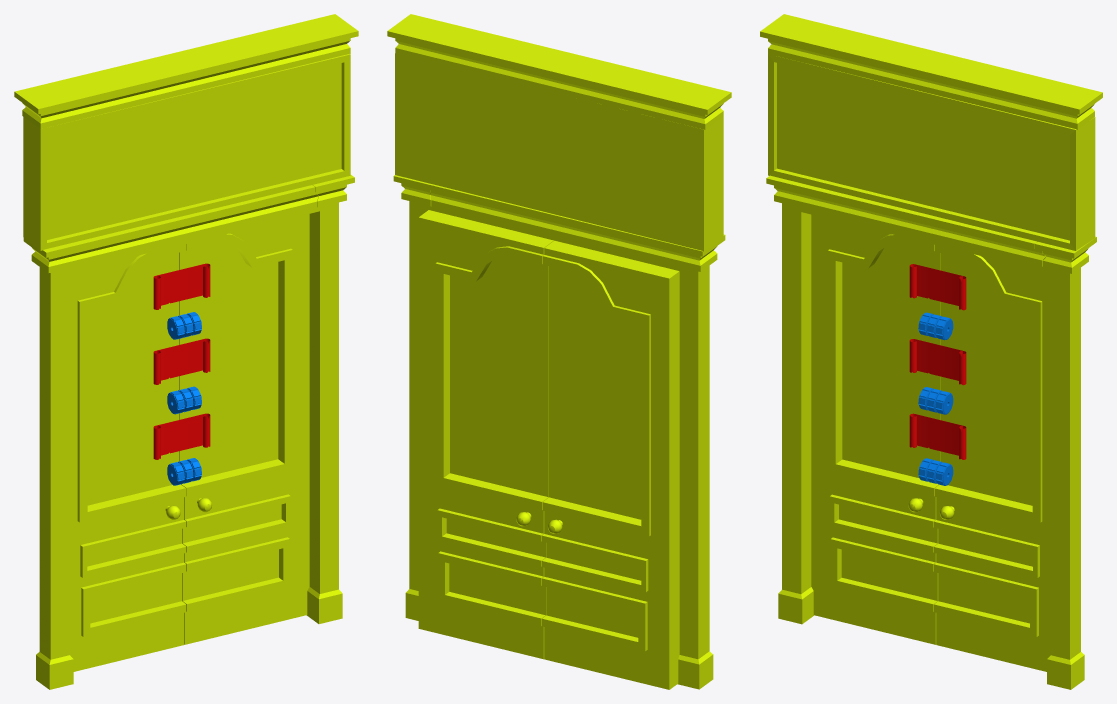
The picture shows the model from 3 angles, left to right: view 1: azimuth 30°, elevation 25°; view 2: azimuth 150°, elevation 25°; view 3: azimuth 330°, elevation 25°; orthographic projection.
Visible parts, largest first — view 1: Box004, Box005, Box008, Plane003, Plane004, Plane005; view 2: Box004, Box008, Box005; view 3: Box004, Box008, Box005, Plane003, Plane004, Plane005.
Boxes of the visible parts, left/top/right/bottom form: Box004: left=14, top=14, right=358, bottom=689; Box005: left=179, top=214, right=309, bottom=644; Box008: left=70, top=244, right=186, bottom=671; Plane003: left=153, top=413, right=210, bottom=459; Plane004: left=153, top=338, right=210, bottom=384; Plane005: left=153, top=263, right=210, bottom=309; Box004: left=387, top=14, right=731, bottom=689; Box008: left=542, top=240, right=679, bottom=689; Box005: left=418, top=210, right=553, bottom=659; Box004: left=760, top=14, right=1102, bottom=689; Box008: left=811, top=214, right=940, bottom=644; Box005: left=934, top=245, right=1050, bottom=671; Plane003: left=909, top=413, right=966, bottom=459; Plane004: left=909, top=339, right=966, bottom=385; Plane005: left=909, top=264, right=966, bottom=310.
Bounding box in the file's own units: 51.76 × 90.67 × 9.87.
